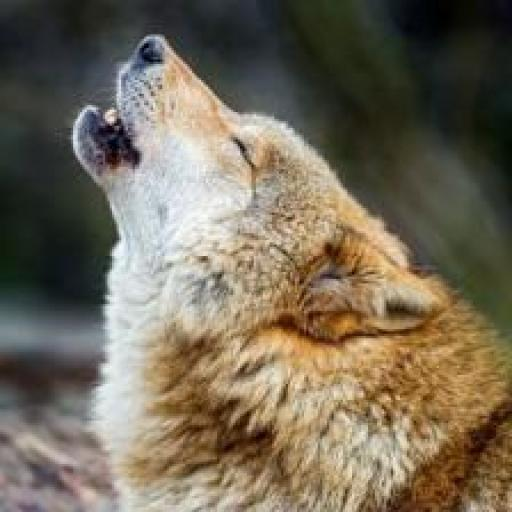wolf: (55, 0, 510, 512)
